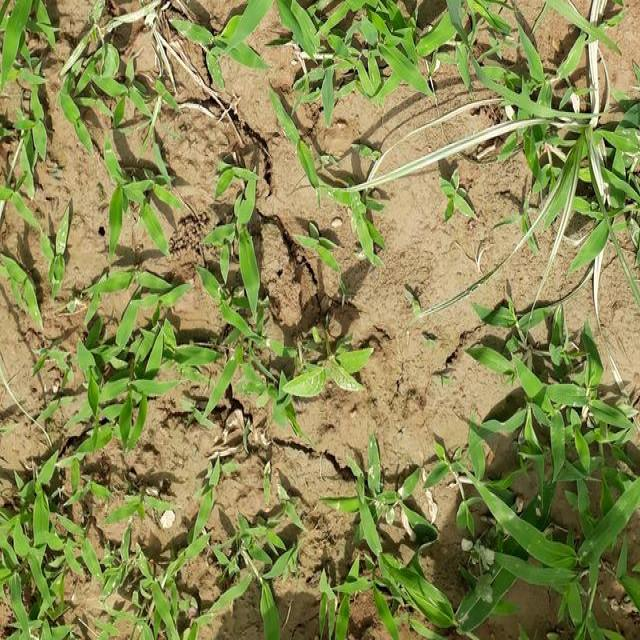weed: (0, 195, 277, 640), (430, 293, 640, 640), (426, 0, 631, 275)
